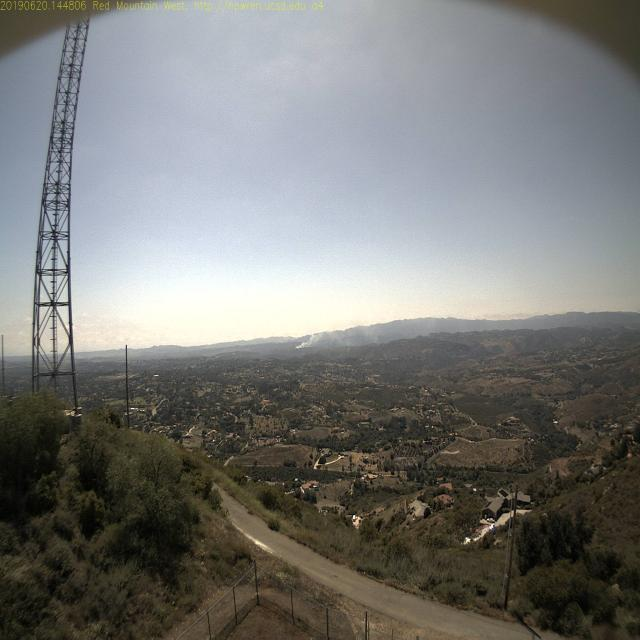smoke: (294, 336, 308, 354)
